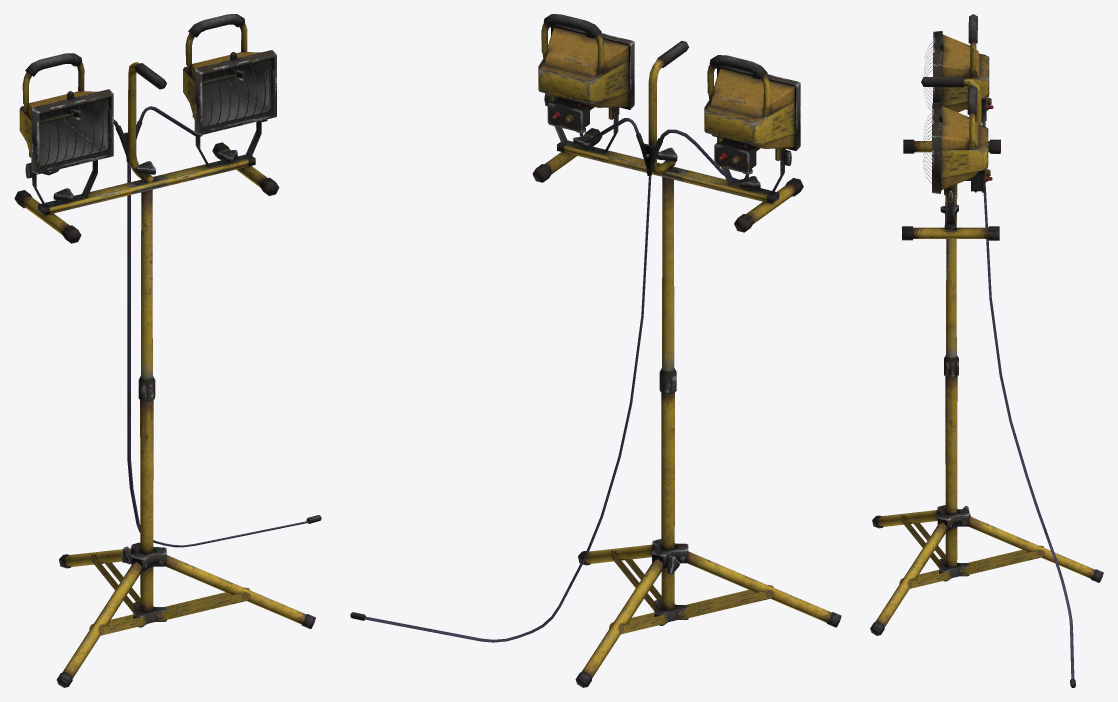
Rendered from sm35_073_constructionlight01a.fbx.
3 views of the same model, side by side, from view 1: azimuth 30°, elevation 25°; view 2: azimuth 150°, elevation 25°; view 3: azimuth 270°, elevation 25° (orthographic). The views are drawn at different scales.
Parts seen in each view (by area): view 1: LOD_1_Group_0_Sub_1__sm35_073_Constructionlight01A_A_Mat__En; view 2: LOD_1_Group_0_Sub_1__sm35_073_Constructionlight01A_A_Mat__En; view 3: LOD_1_Group_0_Sub_1__sm35_073_Constructionlight01A_A_Mat__En.
Part boxes in pixels (bbox=[...]): LOD_1_Group_0_Sub_1__sm35_073_Constructionlight01A_A_Mat__En: bbox=[14, 14, 321, 687]; LOD_1_Group_0_Sub_1__sm35_073_Constructionlight01A_A_Mat__En: bbox=[350, 14, 841, 687]; LOD_1_Group_0_Sub_1__sm35_073_Constructionlight01A_A_Mat__En: bbox=[870, 14, 1103, 687].
Size of the model in its own units: 1.48 by 2.23 by 0.8973.
